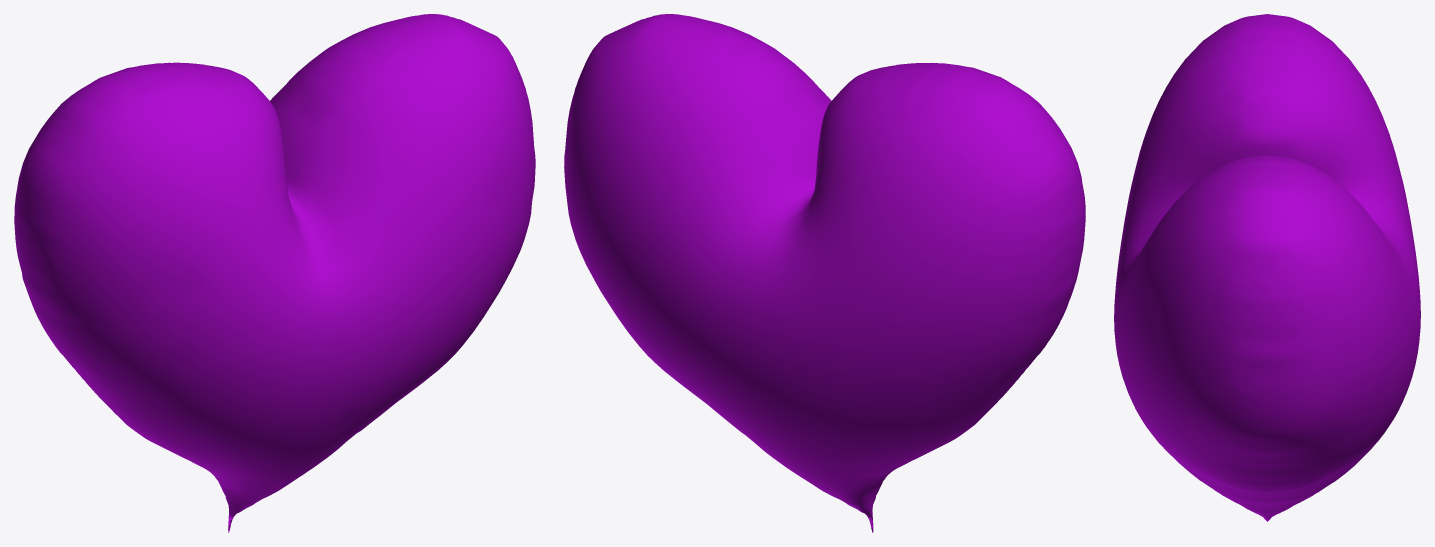
Rendered from mm_project.glb.
3 renders of one model, left to right at view 1: azimuth 30°, elevation 25°; view 2: azimuth 150°, elevation 25°; view 3: azimuth 270°, elevation 25°, orthographic. The views are drawn at different scales.
Parts seen in each view (by area): view 1: 7191fce4-cdba-4df7-af09-ec8a52df5bfd; view 2: 7191fce4-cdba-4df7-af09-ec8a52df5bfd; view 3: 7191fce4-cdba-4df7-af09-ec8a52df5bfd.
Boxes of the visible parts, box(x1,y1,x2,y2) form: 7191fce4-cdba-4df7-af09-ec8a52df5bfd: box(14, 14, 535, 532); 7191fce4-cdba-4df7-af09-ec8a52df5bfd: box(564, 14, 1085, 532); 7191fce4-cdba-4df7-af09-ec8a52df5bfd: box(1114, 14, 1420, 521).
Bounding box in the file's own units: 4.59 × 4.25 × 2.53.
